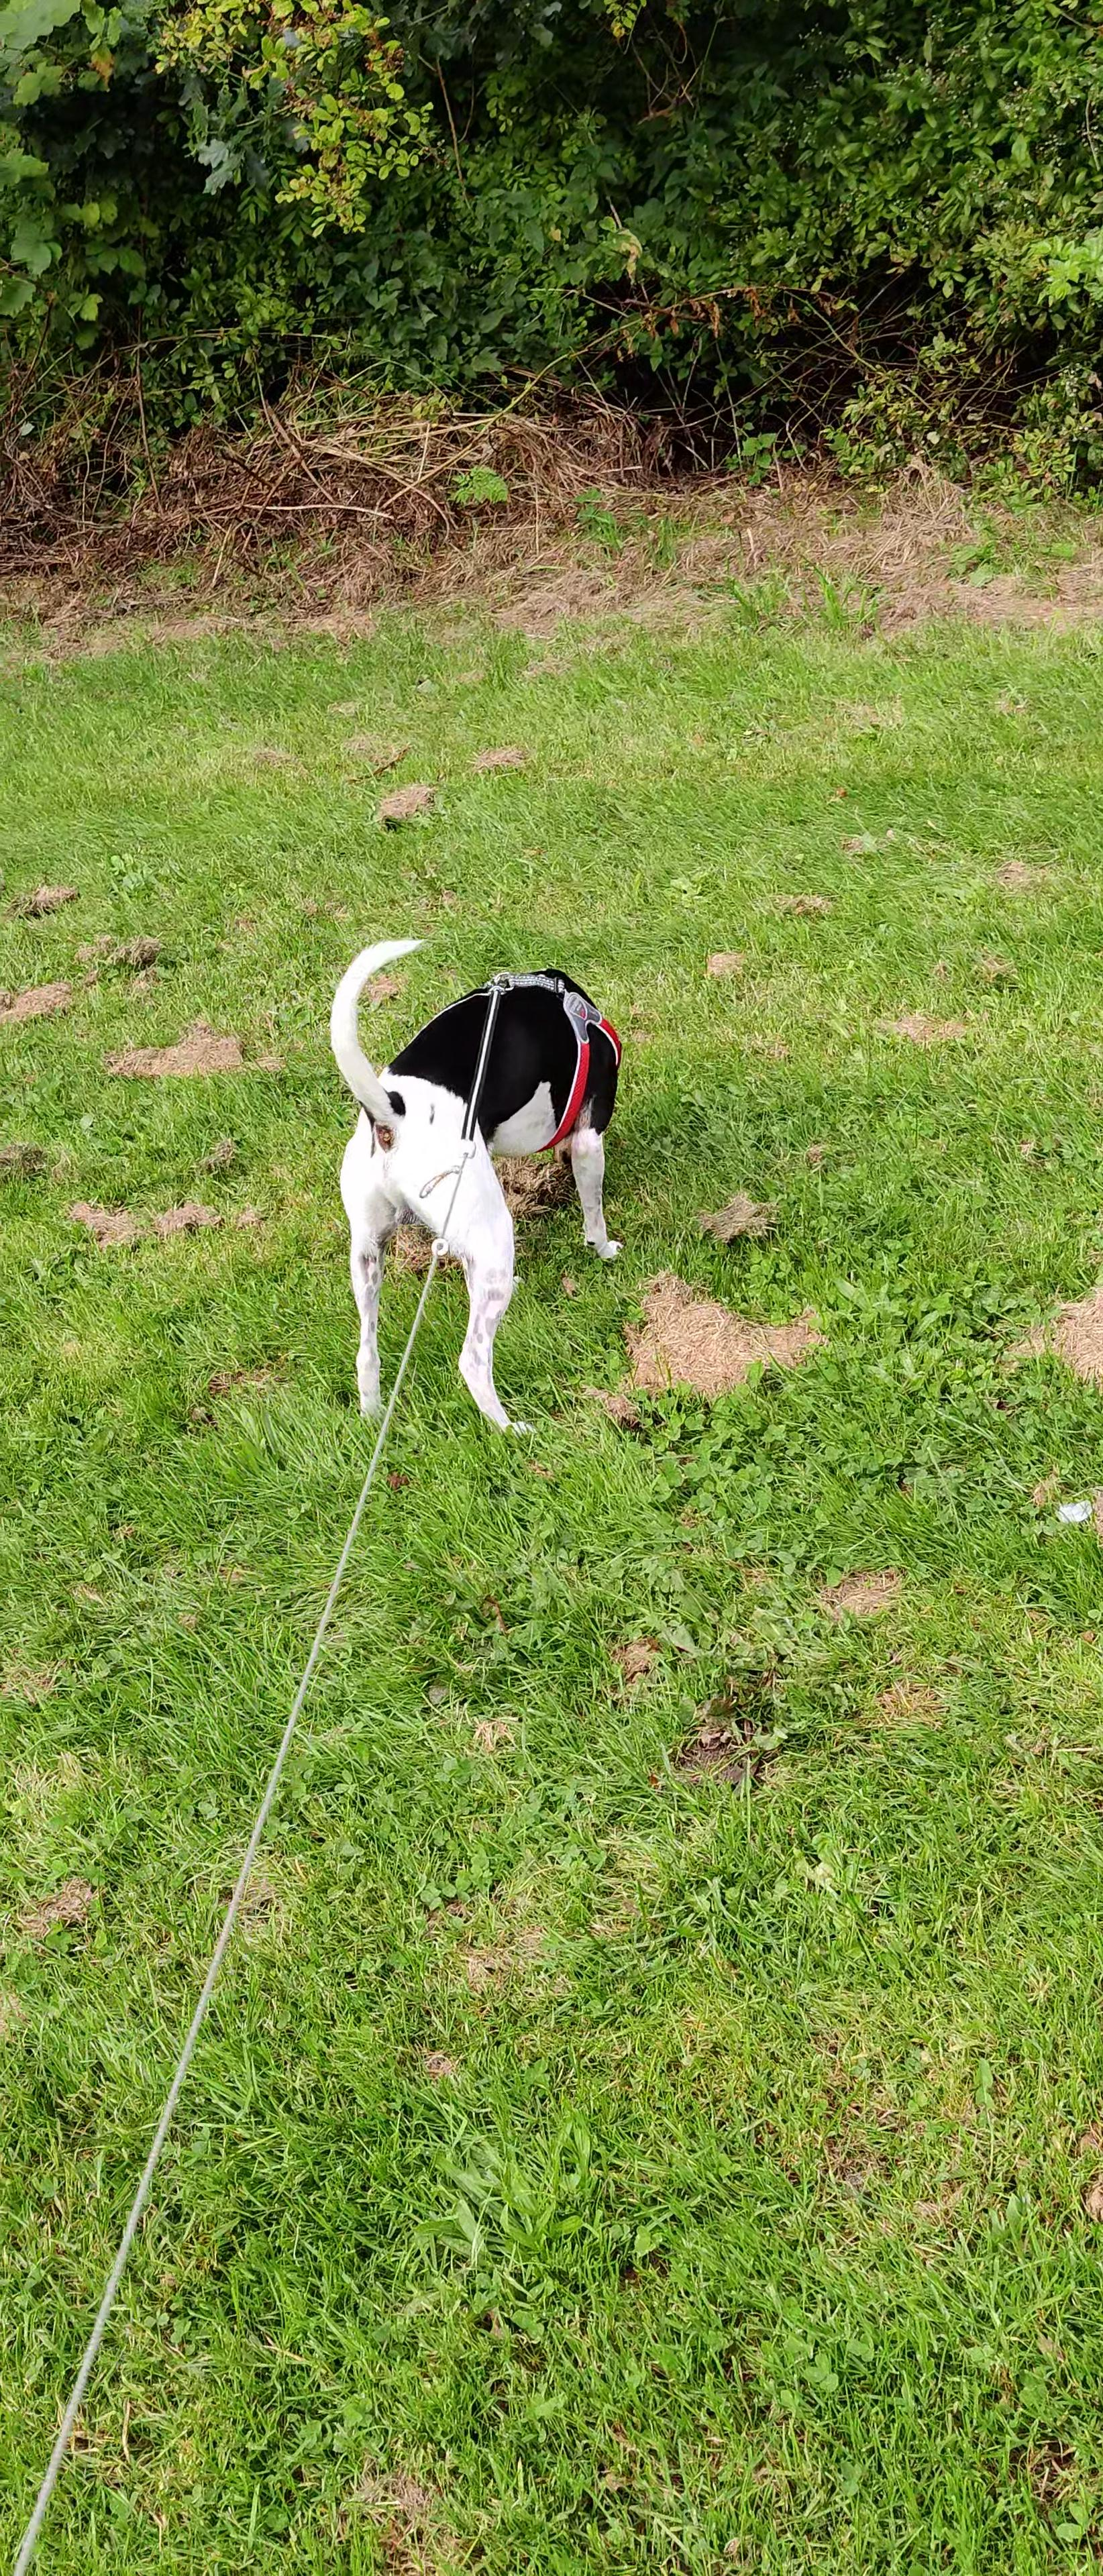Dog: (316, 930, 636, 1452)
